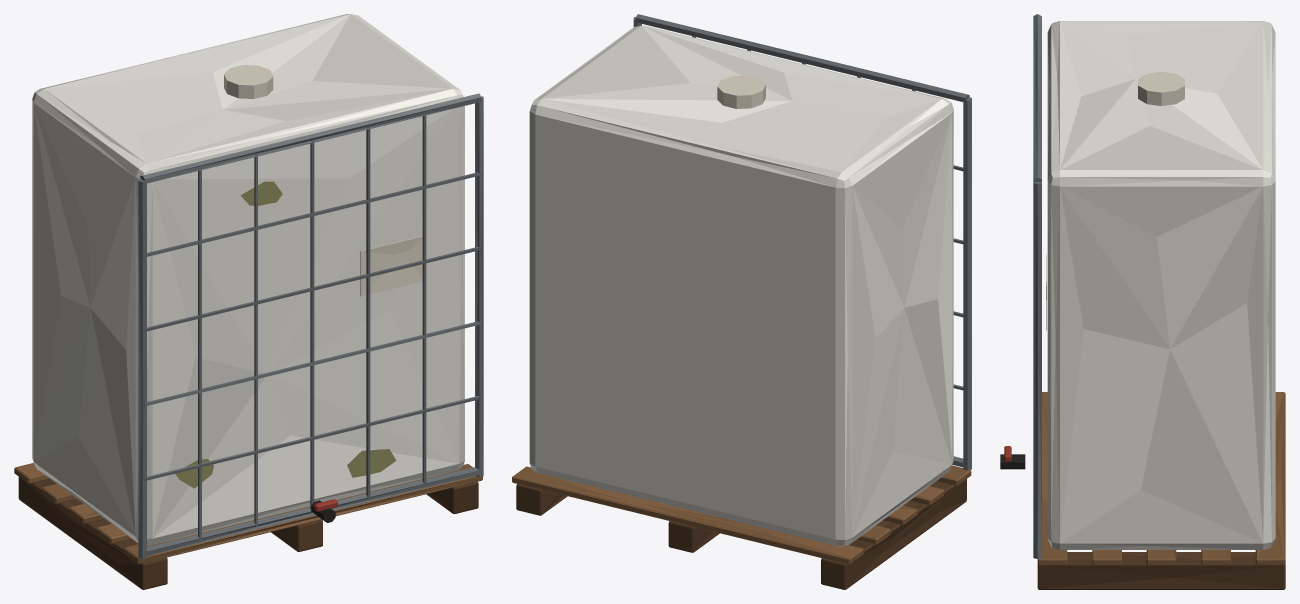
File: tank_water_plastikovyy_1000_l_idle.glb
The picture shows the model from 3 angles, left to right: view 1: azimuth 30°, elevation 25°; view 2: azimuth 150°, elevation 25°; view 3: azimuth 270°, elevation 25°; orthographic projection. The views are drawn at different scales.
Visible parts, largest first — view 1: tank_water_plastikovyy_1000_l_idle; view 2: tank_water_plastikovyy_1000_l_idle; view 3: tank_water_plastikovyy_1000_l_idle.
Part boxes in pixels (x1,y1,x2,y2): tank_water_plastikovyy_1000_l_idle: (14,14,483,589); tank_water_plastikovyy_1000_l_idle: (512,14,971,589); tank_water_plastikovyy_1000_l_idle: (1000,14,1285,589).
Size of the model in its own units: 1.6 by 1.9 by 1.15.
Materials: 1 (1 with a texture image).
